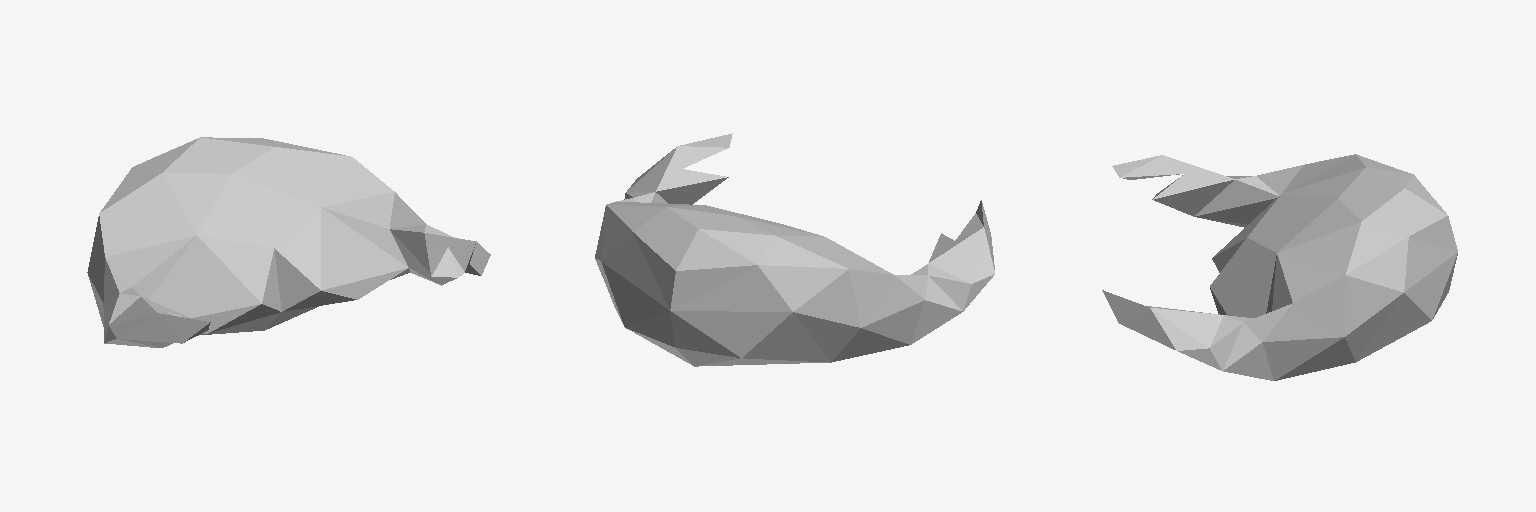
The model's file is crab.obj.
3 renders of one model, left to right at view 1: azimuth 30°, elevation 25°; view 2: azimuth 150°, elevation 25°; view 3: azimuth 270°, elevation 25°, orthographic.
Visible parts, largest first — view 1: Sphere; view 2: Sphere; view 3: Sphere.
Boxes of the visible parts, x1=… form: Sphere: x1=87, y1=137, x2=490, y2=347; Sphere: x1=595, y1=133, x2=994, y2=366; Sphere: x1=1102, y1=154, x2=1457, y2=380.
Size of the model in its own units: 2.38 by 0.8843 by 2.01.